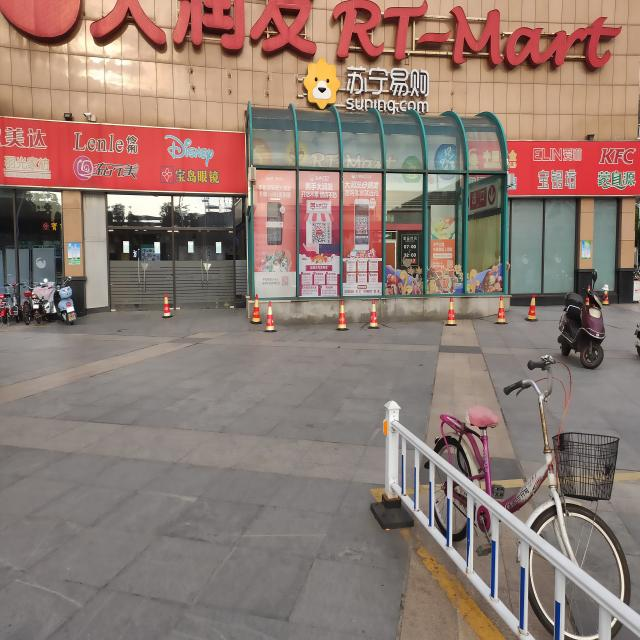bicycle: (422, 351, 631, 637)
motorbike: (558, 270, 606, 369), (47, 276, 77, 325)
reflective_cone: (335, 299, 349, 331), (263, 302, 277, 332), (524, 293, 538, 321), (494, 296, 508, 324), (444, 297, 457, 326), (368, 299, 380, 329), (250, 294, 262, 324), (161, 293, 174, 318), (602, 290, 610, 306)
